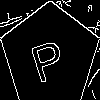P: (25, 30, 69, 84)
